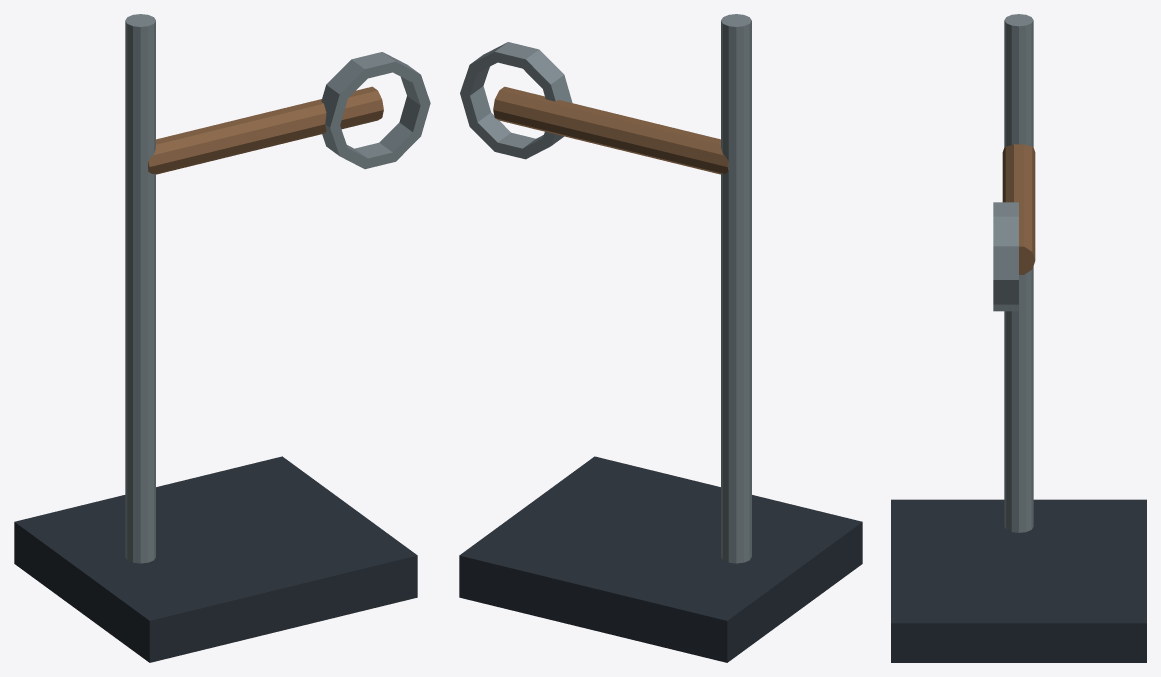
File: L-20_retort_stand.glb
3 renders of one model, left to right at view 1: azimuth 30°, elevation 25°; view 2: azimuth 150°, elevation 25°; view 3: azimuth 270°, elevation 25°, orthographic. The views are drawn at different scales.
Visible parts, largest first — view 1: L-20_retort_stand; view 2: L-20_retort_stand; view 3: L-20_retort_stand.
Boxes of the visible parts, x1,y1,x2,y2 form: L-20_retort_stand: (14, 14, 430, 662); L-20_retort_stand: (459, 14, 862, 662); L-20_retort_stand: (891, 14, 1146, 662).
Size of the model in its own units: 0.2 by 0.33 by 0.14.
